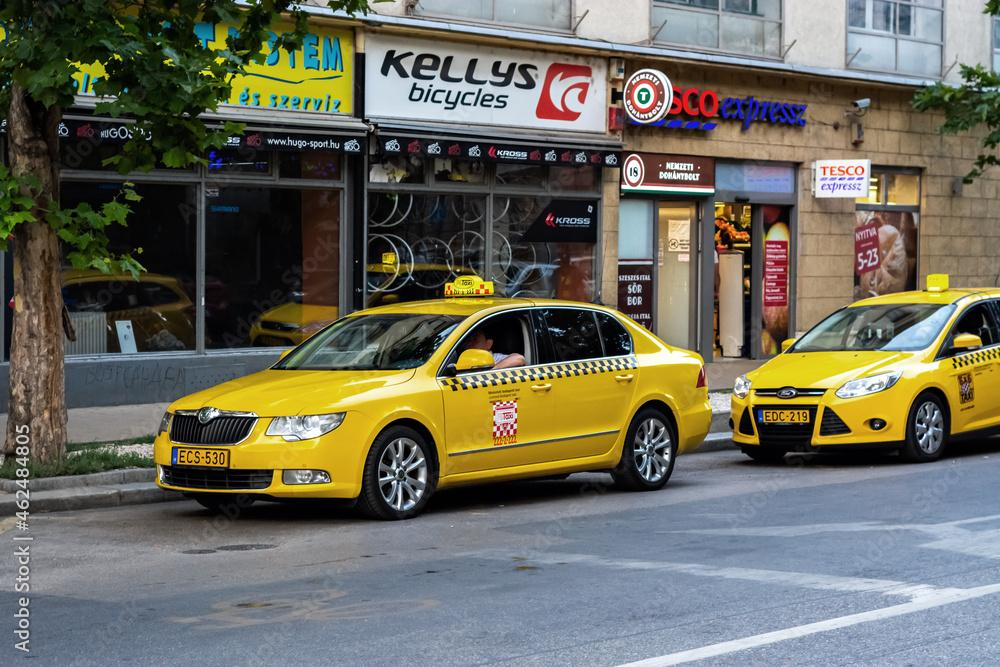taxi: (153, 279, 728, 524)
